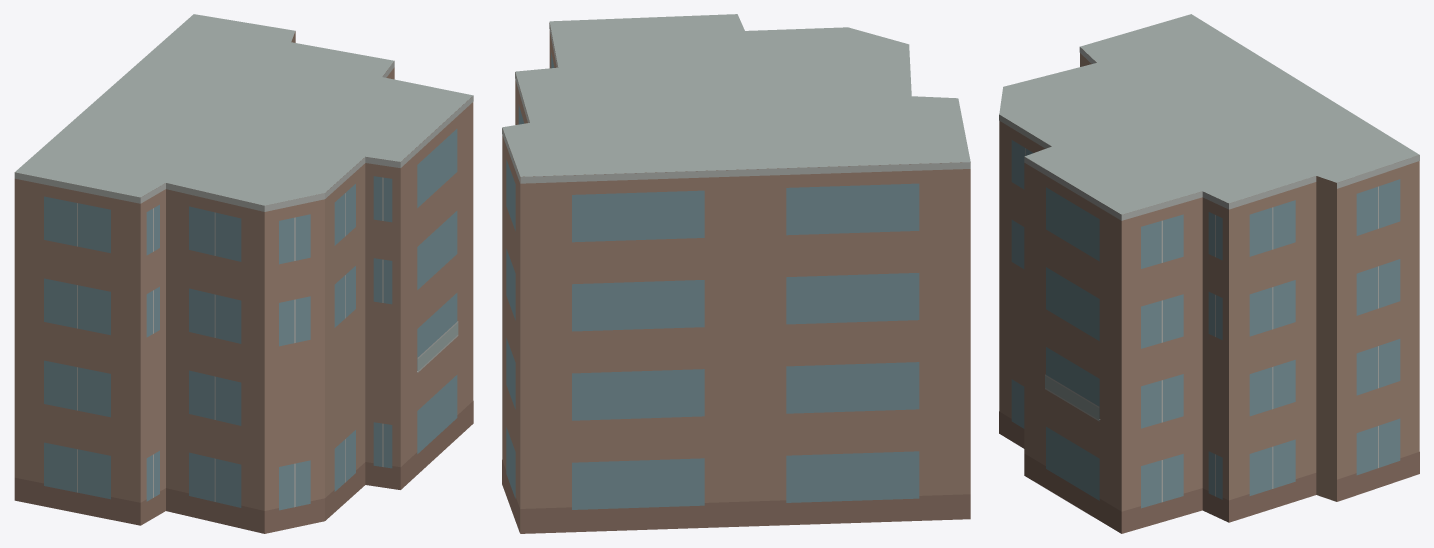
The model's file is survey-upis-32964230.glb.
The picture shows the model from 3 angles, left to right: view 1: azimuth 30°, elevation 25°; view 2: azimuth 150°, elevation 25°; view 3: azimuth 270°, elevation 25°; orthographic projection. The views are drawn at different scales.
Parts seen in each view (by area): view 1: survey-upis-32964230.tmp; view 2: survey-upis-32964230.tmp; view 3: survey-upis-32964230.tmp.
Boxes of the visible parts, x1,y1,x2,y2 form: survey-upis-32964230.tmp: [14, 14, 473, 533]; survey-upis-32964230.tmp: [502, 14, 970, 533]; survey-upis-32964230.tmp: [999, 14, 1419, 533].
Size of the model in its own units: 17.28 by 12.8 by 15.3.
